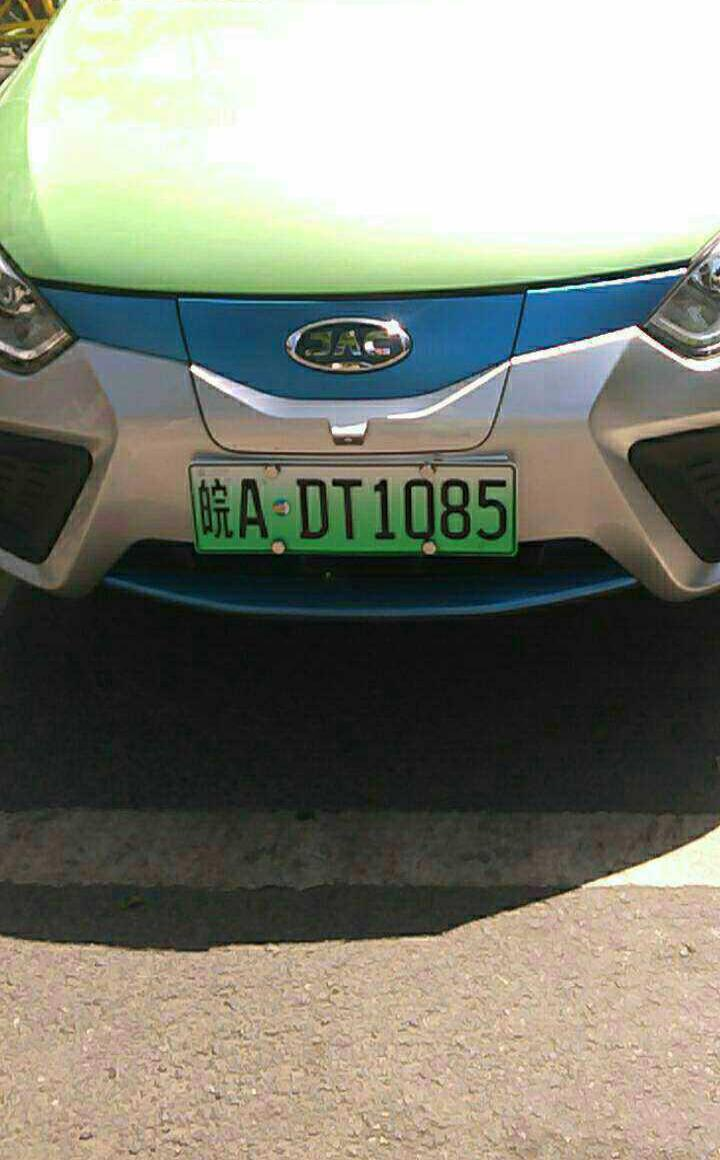car_id: (186, 464, 516, 552)
